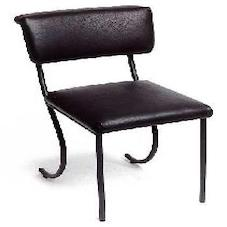chair: (3, 0, 221, 223)
